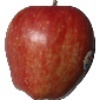apple: (5, 5, 96, 100)
